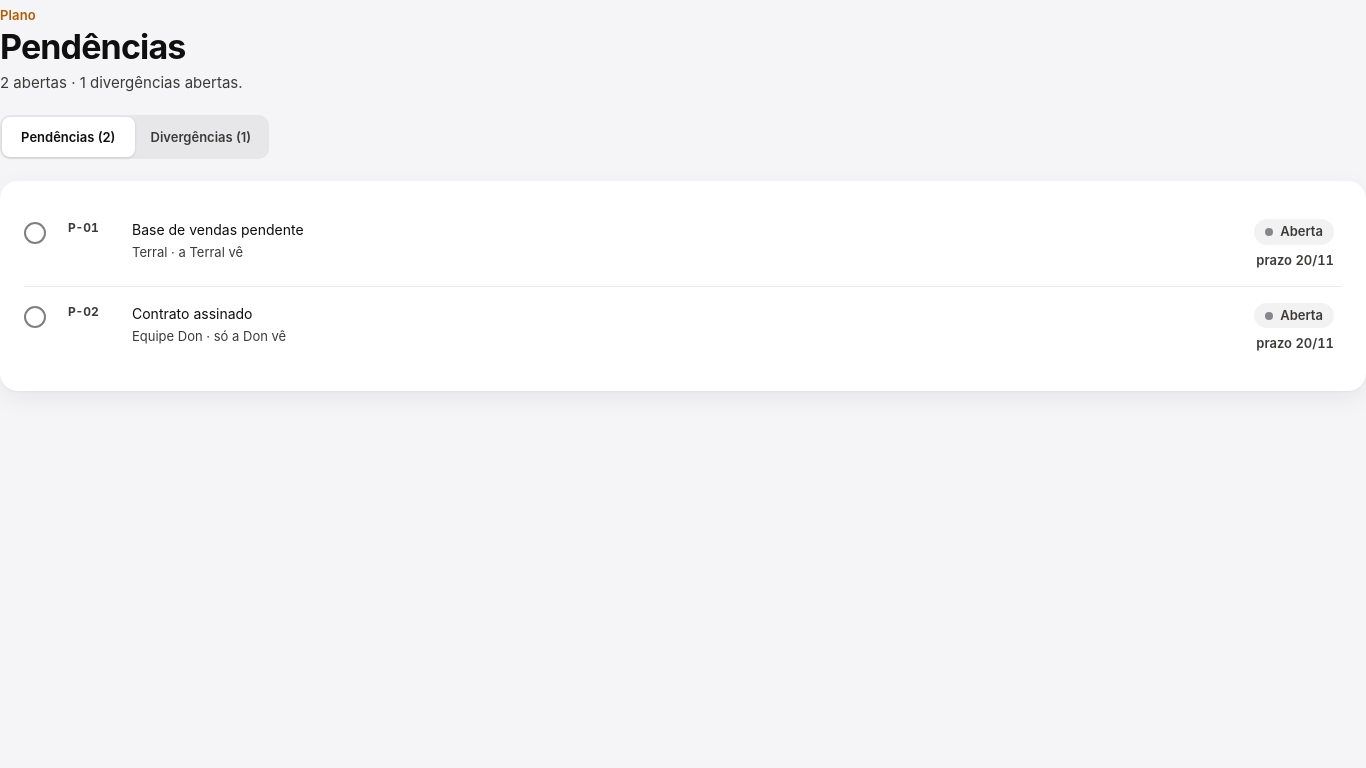
it: Pendências › blocks hours and "margem" in the effect of a visible item
The image size is (1366, 768).
Click the button with aria-label "Editar P-01": (83, 228) [60,207,1342,282]
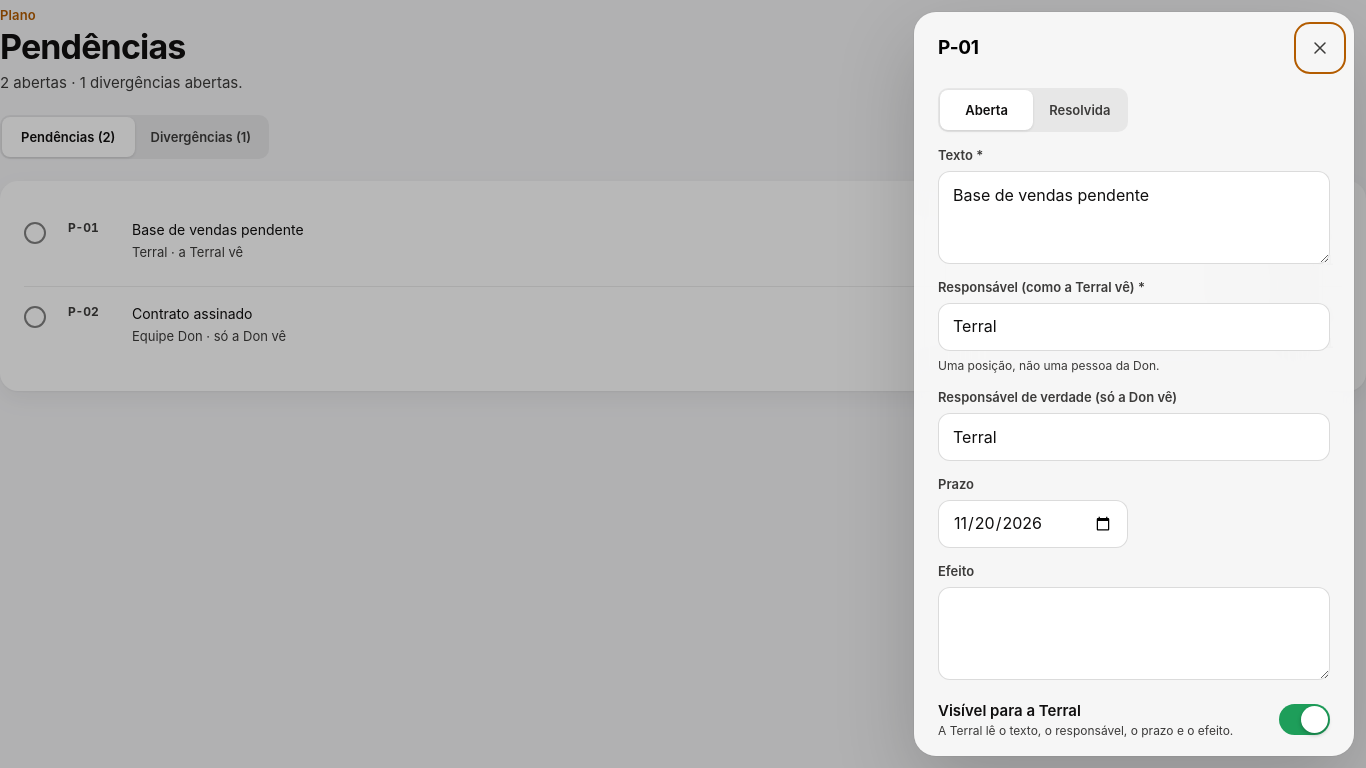
In the text box labelled "Efeito": (1134, 633) [938,587,1330,680], type "custa 21,0 h"
(page scrolled)
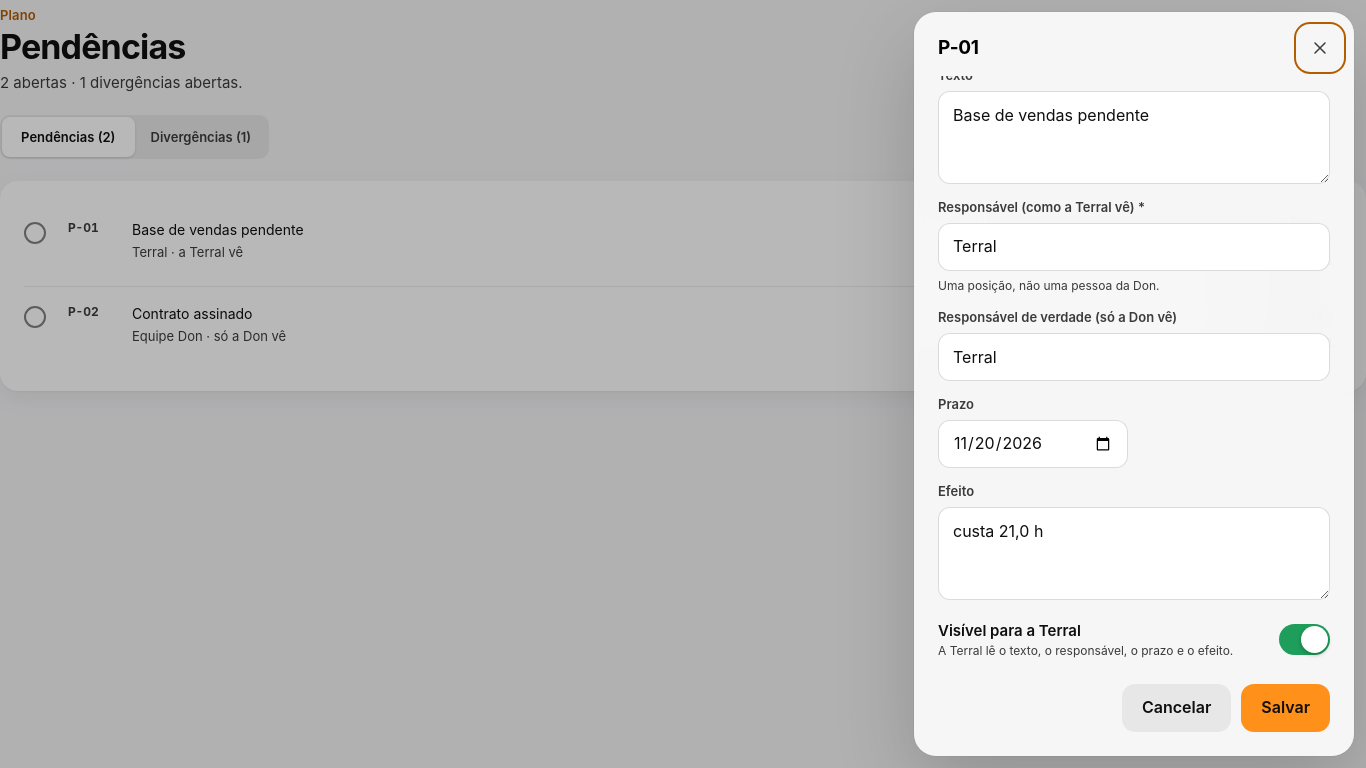
Click the button "Salvar": (1286, 708) [1241,684,1330,732]
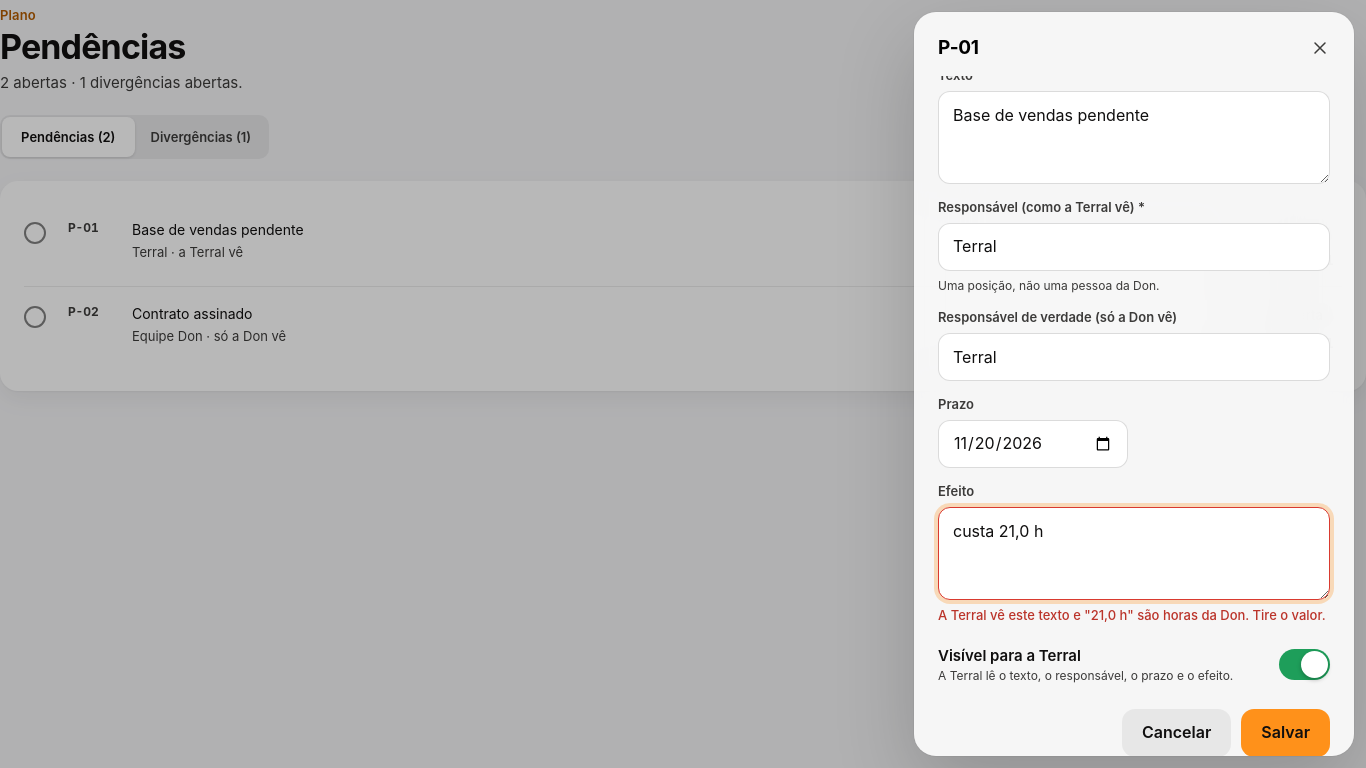
Expected: the text "A Terral vê este texto e \"21,0 h\" são horas da Don. Tire o valor." is shown, [938,606,1330,625]
